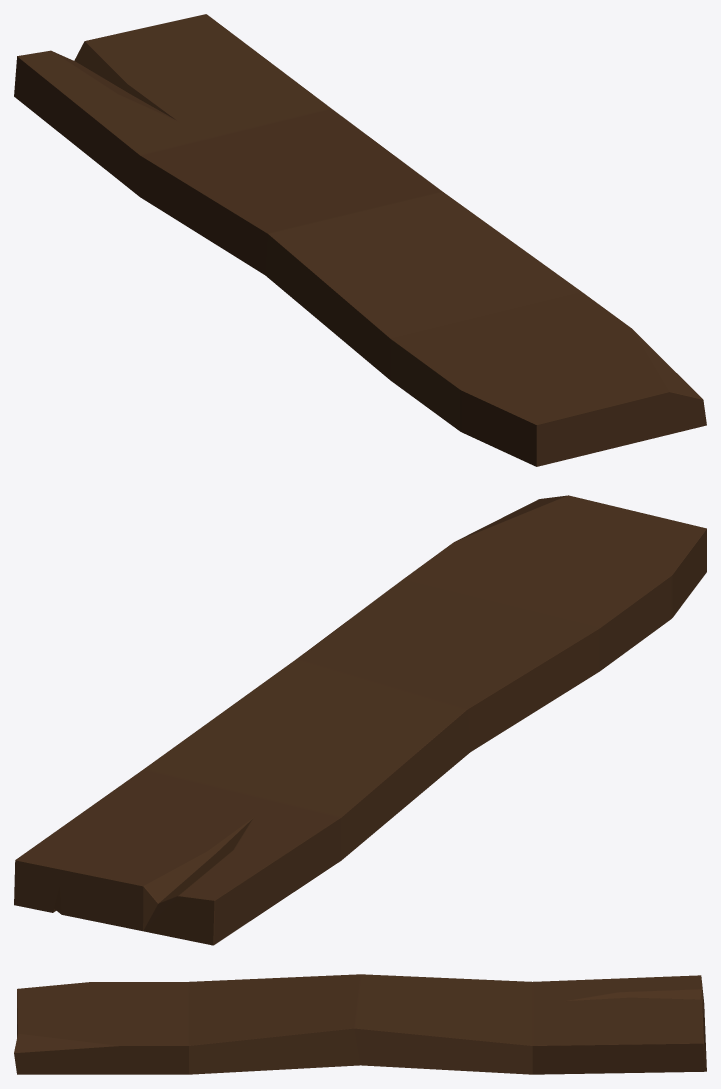
The model's file is Plank 3.fbx.
3 views of the same model, one above another, from view 1: azimuth 30°, elevation 25°; view 2: azimuth 150°, elevation 25°; view 3: azimuth 270°, elevation 25° (orthographic). The views are drawn at different scales.
Parts seen in each view (by area): view 1: Plank .003; view 2: Plank .003; view 3: Plank .003.
Part boxes in pixels (x1=…): Plank .003: x1=14, y1=14, x2=706, y2=466; Plank .003: x1=14, y1=495, x2=706, y2=945; Plank .003: x1=14, y1=974, x2=706, y2=1074.
Size of the model in its own units: 18.14 by 5.24 by 82.25.
